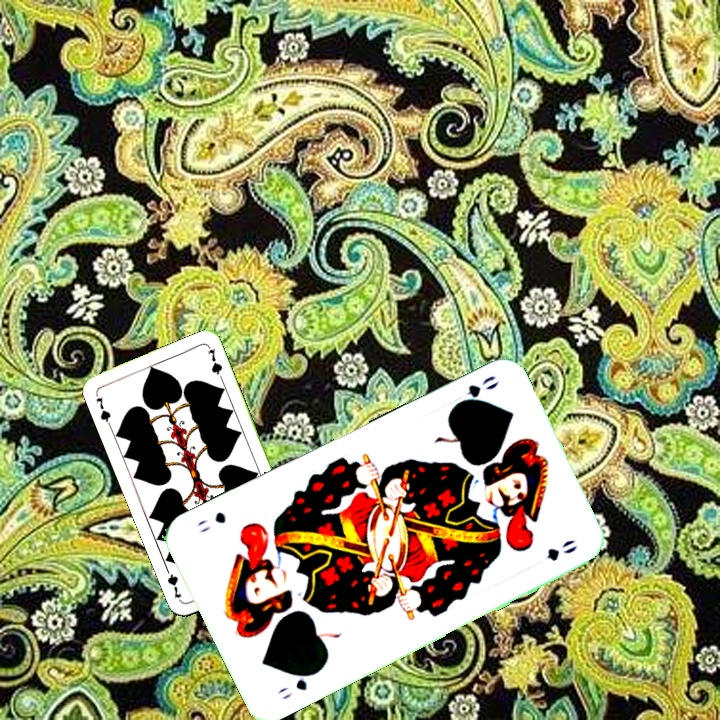G7: (92, 393, 113, 428)
GO: (448, 371, 502, 411), (273, 666, 322, 702)
